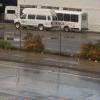Bus: (36, 5, 90, 34)
